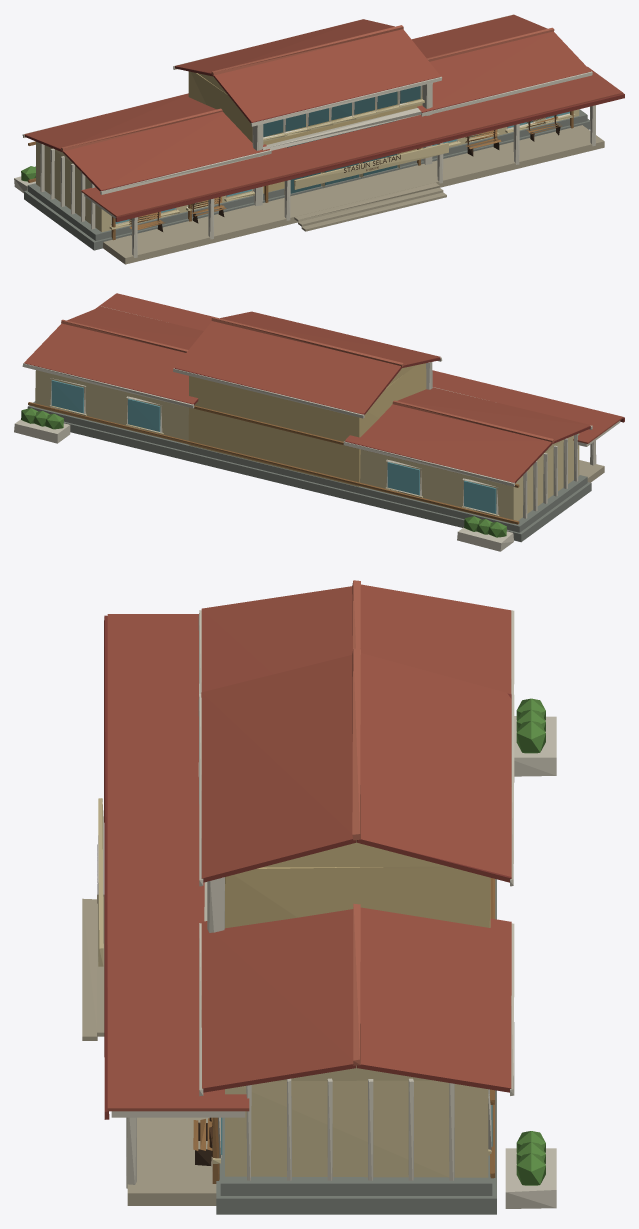
Rendered from station-selatan-low.glb.
3 renders of one model, top to bottom at view 1: azimuth 30°, elevation 25°; view 2: azimuth 150°, elevation 25°; view 3: azimuth 270°, elevation 25°, orthographic. The views are drawn at different scales.
Visible parts, largest first — view 1: GEO-station-selatan.001; view 2: GEO-station-selatan.001; view 3: GEO-station-selatan.001.
Part boxes in pixels (x1,y1,x2,y2): GEO-station-selatan.001: (14,14,624,264); GEO-station-selatan.001: (14,293,624,551); GEO-station-selatan.001: (82,580,556,1214).
Size of the model in its own units: 33.28 by 7.22 by 13.45.
